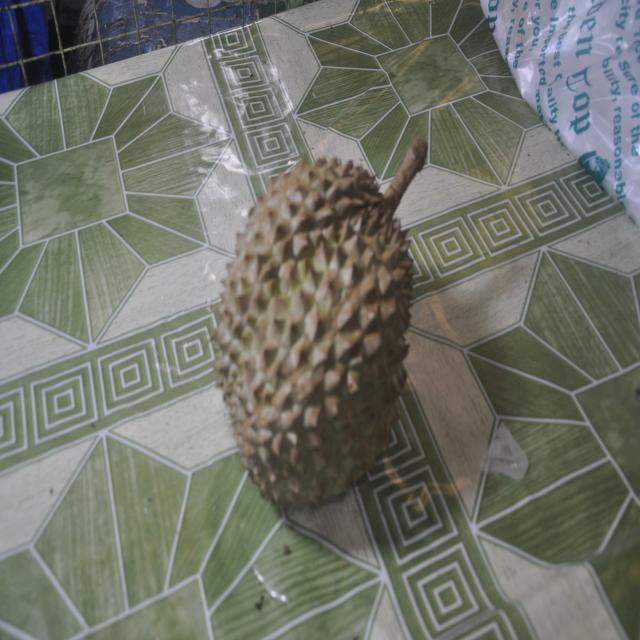mature: (214, 137, 427, 505)
